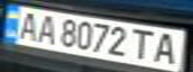0: (72, 19, 93, 52)
2: (106, 24, 133, 58)
7: (90, 20, 112, 55)
8: (54, 16, 78, 48)
A: (151, 30, 184, 65), (30, 12, 60, 45), (12, 9, 42, 40)
T: (127, 26, 160, 62)
